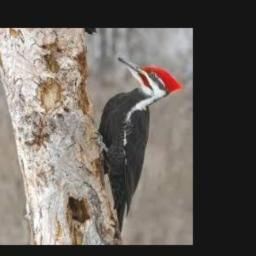Woodpecker: (97, 56, 183, 235)
